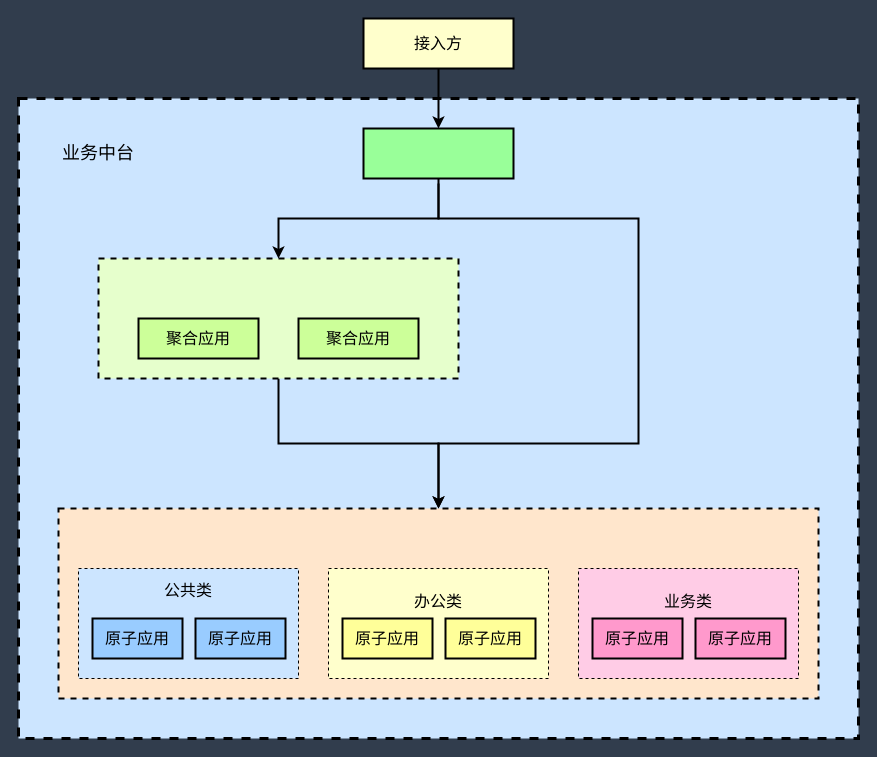
This 877x757 diagram has some shape labels left out. The shapes that lost their labels are listed below. From the top down, each one's box as (x1, y1, x2, y2) in pixels, then its label:
(362, 127, 514, 179): 入口网关
(97, 257, 459, 379): 聚合层
(57, 507, 819, 699): 原子层
